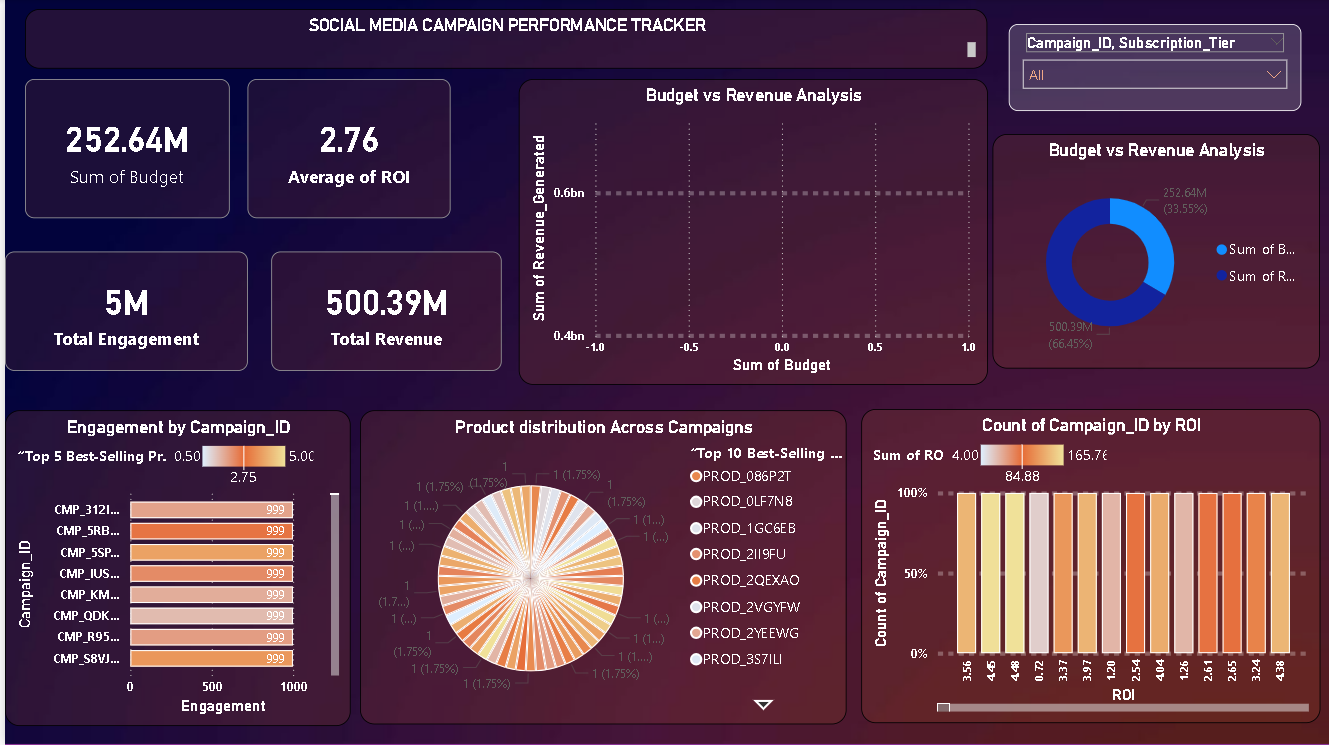

Layout of this report page (visuals, bound fields, positions):
{"tool":"powerbi","page":{"name":"Page 1","canvas":[1280,720],"ordinal":0},"visuals":[{"type":"hundredPercentStackedColumnChart","fields":{"Category":["final_campaign_analysis.ROI"],"Y":["CountNonNull(final_campaign_analysis.Campaign_ID)"]},"box":[826.1,395.2,443.2,303.3],"z":0},{"type":"textbox","title":"SOCIAL MEDIA CAMPAIGN PERFORMANCE TRACKER","box":[19.2,9.6,929,57.6],"z":1000},{"type":"card","fields":{"Values":["Sum(final_campaign_analysis.Budget)"]},"box":[19.2,76.8,197.6,134.5],"z":2000},{"type":"card","fields":{"Values":["Avg(final_campaign_analysis.ROI)"]},"box":[234.6,76.8,196.2,134.5],"z":3000},{"type":"card","fields":{"Values":["final_campaign_analysis.Engagement"]},"box":[0,244.3,234.6,115.3],"z":4000},{"type":"card","fields":{"Values":["Sum(final_campaign_analysis.Revenue_Generated)"]},"box":[256.6,244.3,222.3,115.3],"z":5000},{"type":"slicer","fields":{"Values":["final_campaign_analysis.Campaign_ID","final_campaign_analysis.Subscription_Tier"]},"box":[968.8,24.7,282.7,83.7],"z":6000},{"type":"pieChart","title":"Product distribution Across Campaigns","fields":{"Category":["final_campaign_analysis.Product_ID"],"Y":["CountNonNull(final_campaign_analysis.Campaign_ID)"]},"box":[343.1,396.6,469.3,303.3],"z":7000},{"type":"scatterChart","title":"Budget vs Revenue Analysis","fields":{"X":["Sum(final_campaign_analysis.Budget)"],"Y":["Sum(final_campaign_analysis.Revenue_Generated)"]},"box":[495.4,76.8,452.8,295],"z":8000},{"type":"donutChart","title":"Budget vs Revenue Analysis","fields":{"Y":["Sum(final_campaign_analysis.Budget)","Sum(final_campaign_analysis.Revenue_Generated)"]},"box":[953.7,130.4,315.6,226.4],"z":9000},{"type":"clusteredBarChart","fields":{"Category":["final_campaign_analysis.Campaign_ID"],"Y":["final_campaign_analysis.Engagement"]},"box":[0,396.6,333.4,304.6],"z":10000}]}

Visuals, with their boxes in screenshot pixels (x1, y1, x2, y2), scaled from the page's 1280x720 canvas onto the 1329x745 screenshot:
hundredPercentStackedColumnChart - final_campaign_analysis.ROI x CountNonNull(final_campaign_analysis.Campaign_ID): l=858, t=409, r=1318, b=723
"SOCIAL MEDIA CAMPAIGN PERFORMANCE TRACKER" textbox: l=20, t=10, r=984, b=70
card - Sum(final_campaign_analysis.Budget): l=20, t=79, r=225, b=219
card - Avg(final_campaign_analysis.ROI): l=244, t=79, r=447, b=219
card - final_campaign_analysis.Engagement: l=0, t=253, r=244, b=372
card - Sum(final_campaign_analysis.Revenue_Generated): l=266, t=253, r=497, b=372
slicer - final_campaign_analysis.Campaign_ID x final_campaign_analysis.Subscription_Tier: l=1006, t=26, r=1299, b=112
"Product distribution Across Campaigns" pieChart: l=356, t=410, r=843, b=724
"Budget vs Revenue Analysis" scatterChart: l=514, t=79, r=984, b=385
"Budget vs Revenue Analysis" donutChart: l=990, t=135, r=1318, b=369
clusteredBarChart - final_campaign_analysis.Campaign_ID x final_campaign_analysis.Engagement: l=0, t=410, r=346, b=726
